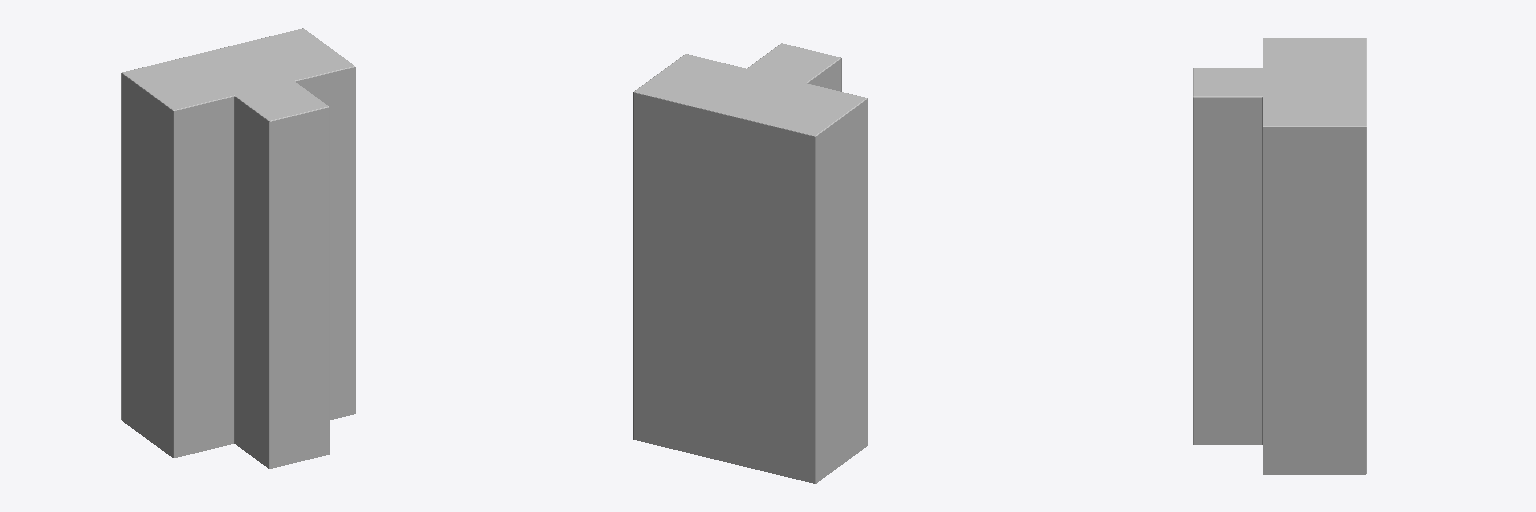
File: Room_01_Platform_02.obj
3 views of the same model, side by side, from view 1: azimuth 30°, elevation 25°; view 2: azimuth 150°, elevation 25°; view 3: azimuth 270°, elevation 25° (orthographic).
Parts seen in each view (by area): view 1: Room_01_Platform_02_Cube.001; view 2: Room_01_Platform_02_Cube.001; view 3: Room_01_Platform_02_Cube.001.
Part boxes in pixels (x1,y1,x2,y2): Room_01_Platform_02_Cube.001: (121, 28, 355, 468); Room_01_Platform_02_Cube.001: (633, 43, 867, 483); Room_01_Platform_02_Cube.001: (1193, 38, 1366, 474).
Bounding box in the file's own units: 6.04 × 11 × 5.